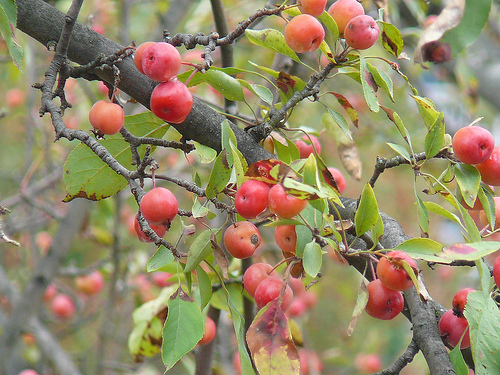apple: (148, 77, 195, 123), (450, 123, 496, 168), (137, 187, 182, 227), (282, 13, 328, 52)
